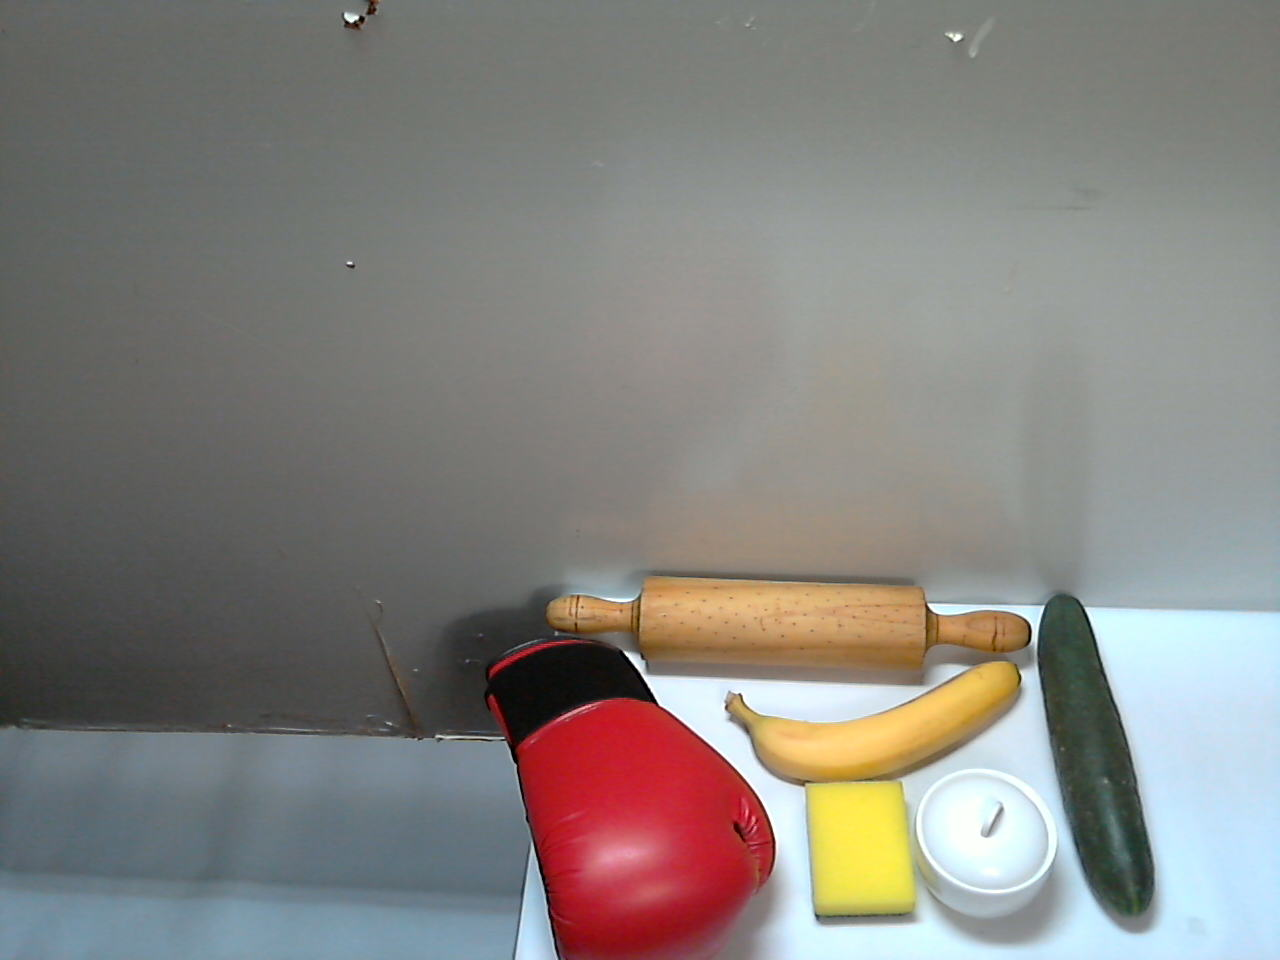cloroplano: (921, 510, 1147, 835)
linterna: (488, 638, 666, 809)
mostaza: (466, 738, 566, 904)
pelota: (591, 753, 692, 873)
pepino: (699, 800, 1089, 941)
pescado: (708, 659, 955, 786)
